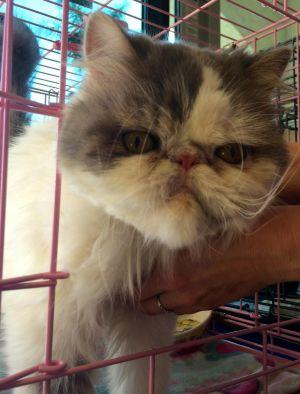persian: (52, 5, 300, 257)
